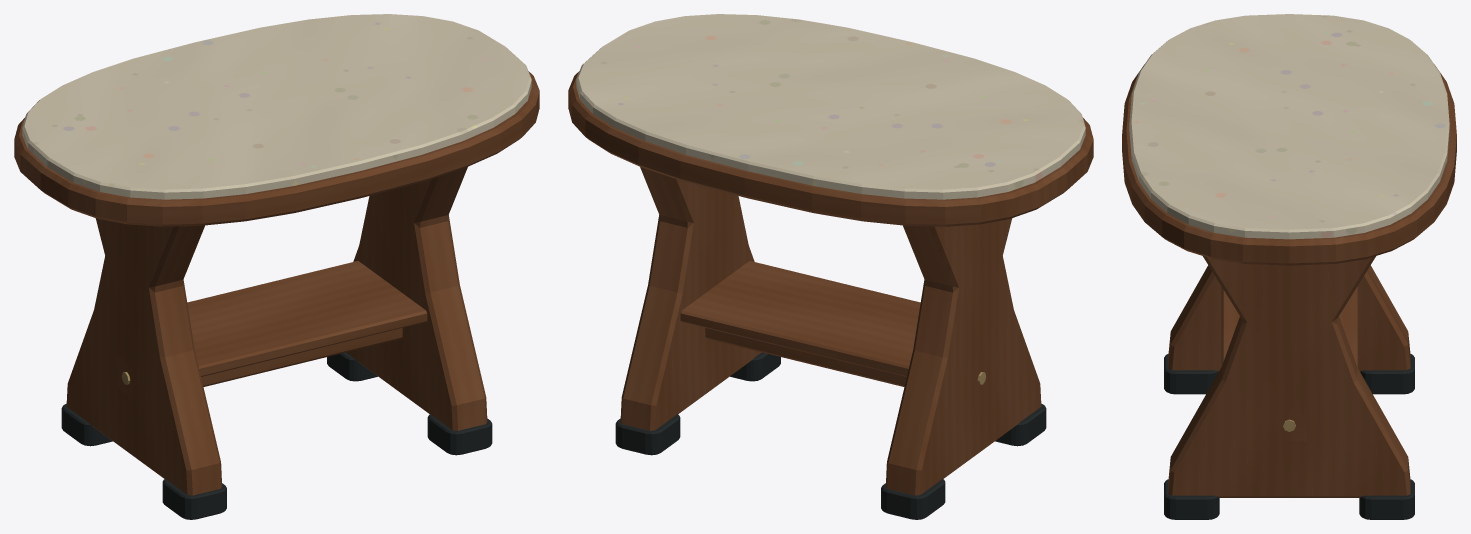
File: AST-FUR-003_day_table.glb
The picture shows the model from 3 angles, left to right: view 1: azimuth 30°, elevation 25°; view 2: azimuth 150°, elevation 25°; view 3: azimuth 270°, elevation 25°; orthographic projection. The views are drawn at different scales.
Visible parts, largest first — view 1: AST-FUR-003_static_visual; view 2: AST-FUR-003_static_visual; view 3: AST-FUR-003_static_visual.
Part boxes in pixels (x1,y1,x2,y2): AST-FUR-003_static_visual: [14, 14, 539, 519]; AST-FUR-003_static_visual: [568, 14, 1093, 519]; AST-FUR-003_static_visual: [1122, 14, 1456, 519].
Bounding box in the file's own units: 0.98 × 0.665 × 0.62.
4 materials, 4 textured.
